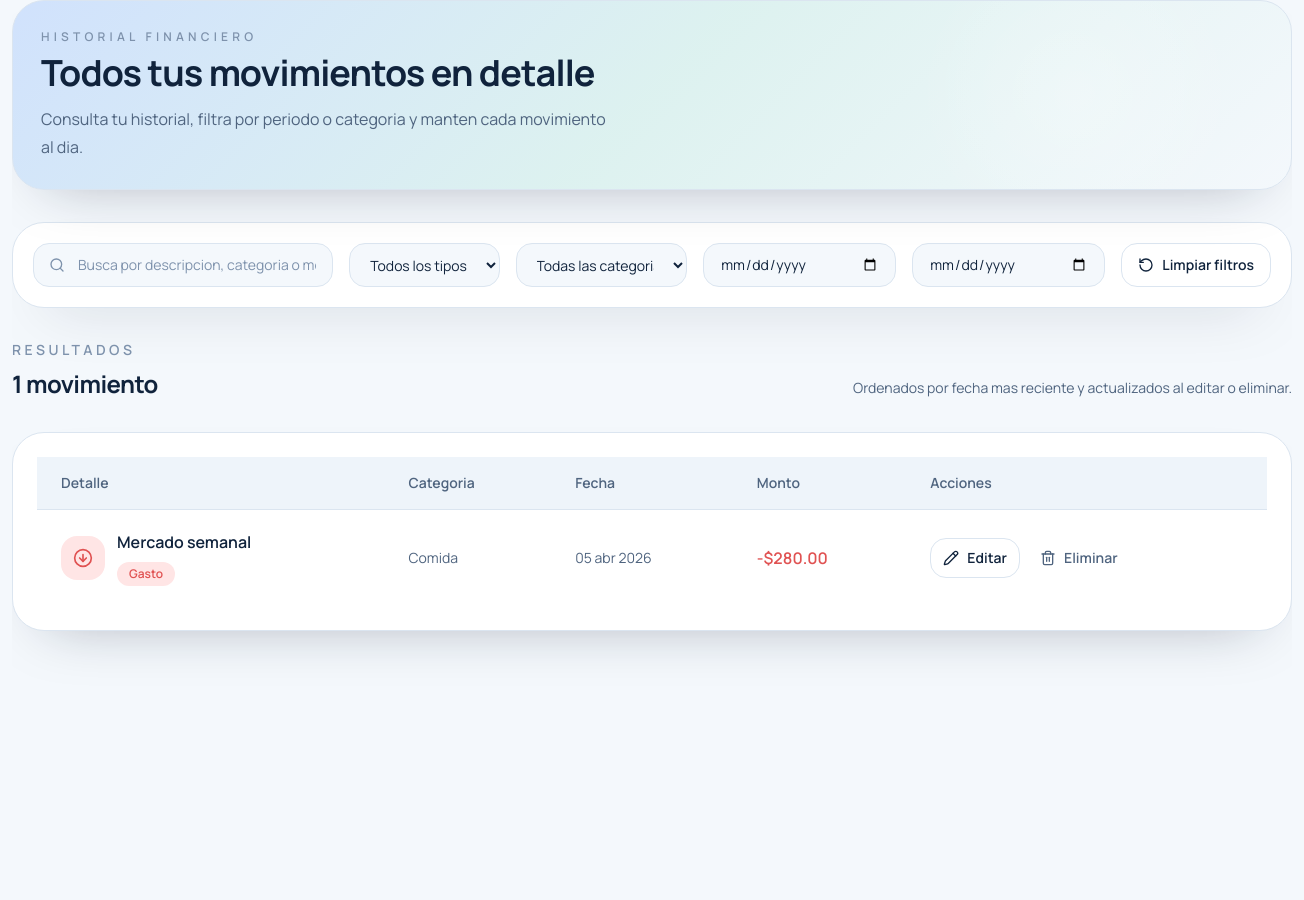
Test: HistoryPage › deletes a transaction after confirmation
Click the button "Eliminar" at (1079, 558), box [1028, 538, 1130, 578]
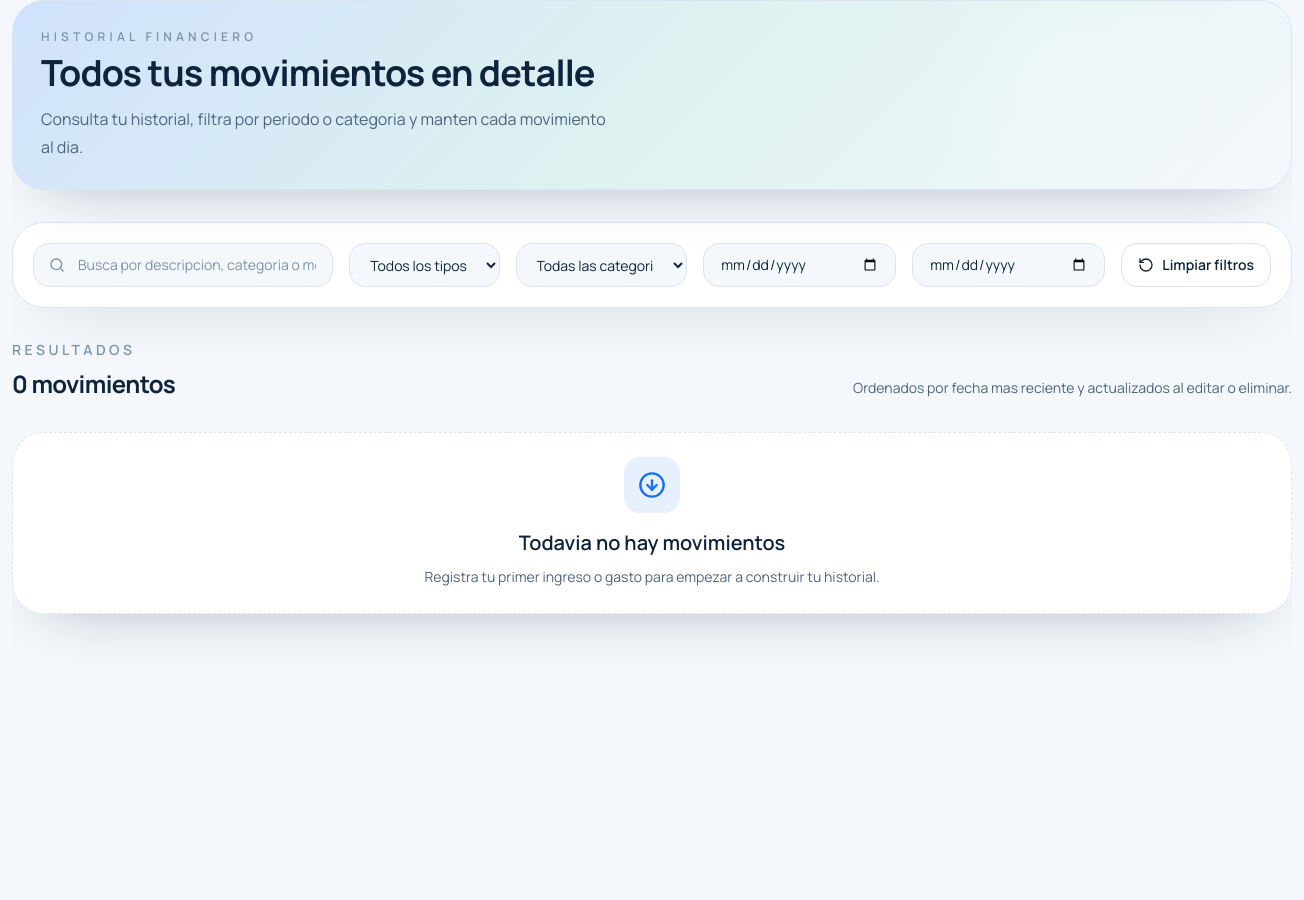
Expected: the text "Mercado semanal" is gone
Expected: the heading "Todavia no hay movimientos" is shown, [519, 529, 785, 556]
